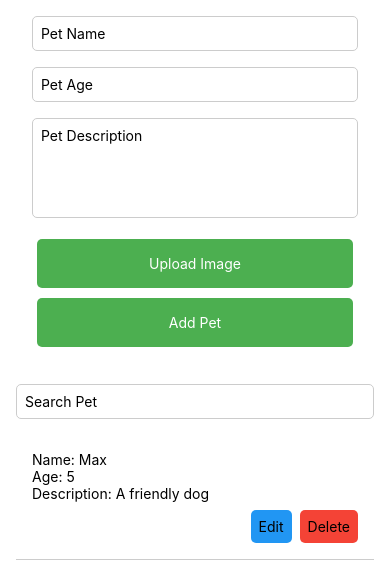
it: MainScreen › filters pets based on search input
Type "Max" into the field with placeholder "Search Pet".
click(195, 402); type("Max")  # box [16, 384, 374, 419]
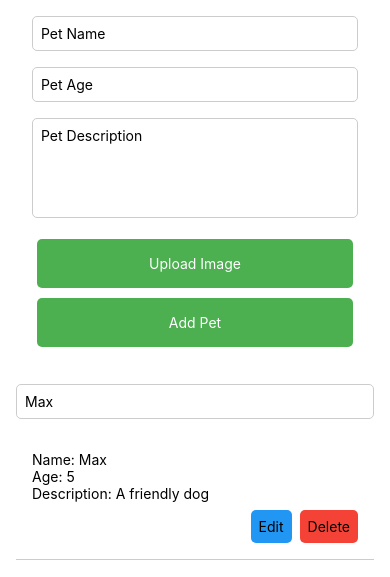
expect the text "Name: Max" is shown: met, box [32, 451, 107, 468]
Replace the text in the field with placeholder "Search Pet" with "Unknown" at coordinates (195, 402), box [16, 384, 374, 419]
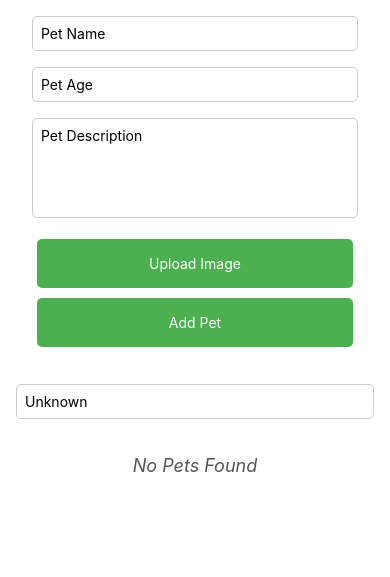
expect the text "Name: Max" is gone: met
